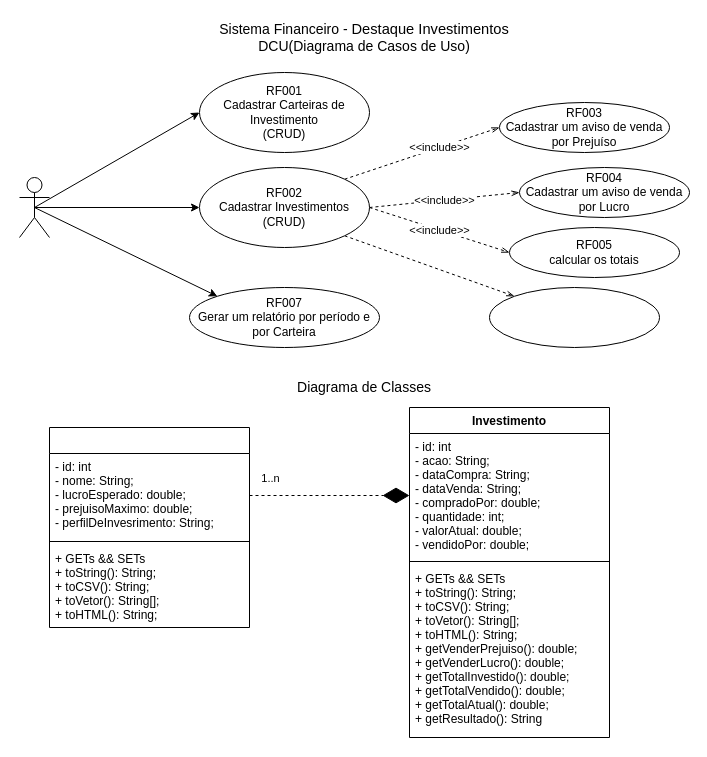
Some shapes in this 707 by 757 pixel diagram are drawn without their labels. Each missing label, with the box of its shape:
Carteira: (48, 426, 250, 628)
RF006 Calcular os resultados (Lucro ou Prejuíso): (488, 286, 660, 348)
Trader: (18, 176, 50, 238)
